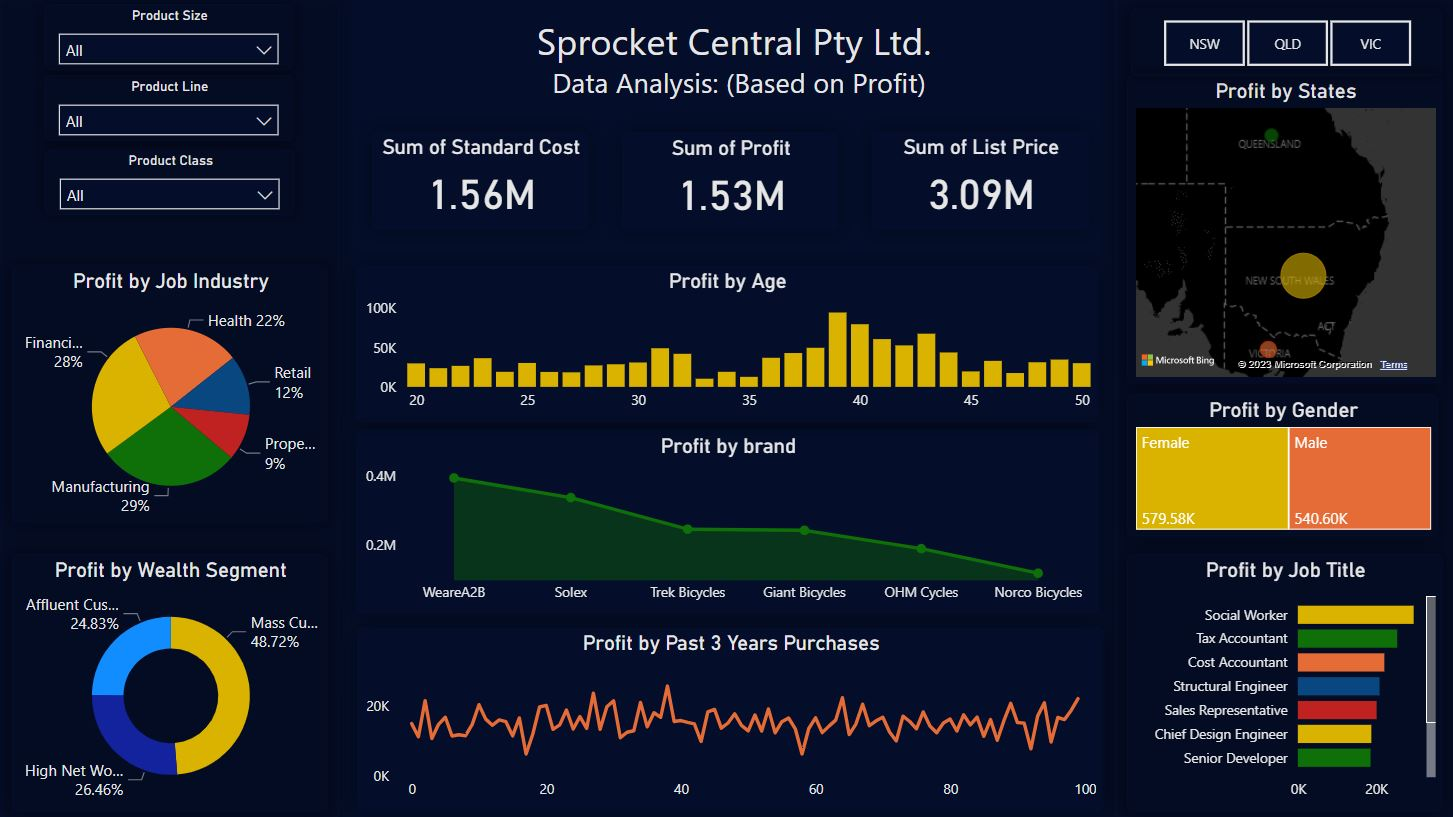

The dashboard page shown, as its layout file describes it:
{"tool":"powerbi","page":{"name":"Page 1","canvas":[1280,720],"ordinal":0},"visuals":[{"type":"shape","box":[980,0,300,720],"z":0},{"type":"shape","box":[0,0,300,720],"z":1000},{"type":"donutChart","title":" Profit by Job Industry","fields":{"Y":["Sum(CustomerDemographicNew.Profit)"],"Category":["CustomerDemographicNew.job_industry_category"]},"box":[12,234,277,226],"z":2000},{"type":"map","title":"Profit by States","fields":{"Category":["CustomerDemographicNew.state"],"Size":["CountNonNull(CustomerDemographicNew.state)"]},"box":[991,68,277,271],"z":3000},{"type":"slicer","fields":{"Values":["CustomerDemographicNew.state"]},"box":[995,10,273,58],"z":4000},{"type":"slicer","title":"Product Class","fields":{"Values":["CustomerDemographicNew.product_class"]},"box":[41,133,219,58],"z":5000},{"type":"slicer","title":"Product Size","fields":{"Values":["CustomerDemographicNew.product_size"]},"box":[40,5,219,58],"z":6000},{"type":"slicer","title":"Product Line","fields":{"Values":["CustomerDemographicNew.product_line"]},"box":[40,68,219,58],"z":7000},{"type":"donutChart","title":"Profit by Wealth Segment","fields":{"Y":["Sum(CustomerDemographicNew.Profit)"],"Category":["CustomerDemographicNew.wealth_segment"]},"box":[12,488,277,226],"z":9000},{"type":"textbox","box":[460,10,381,101],"z":10000},{"type":"treemap","title":"Profit by Gender","fields":{"Values":["Sum(CustomerDemographicNew.Profit)"],"Group":["CustomerDemographicNew.gender"]},"box":[991,348,273,125],"z":13000},{"type":"lineChart","title":"Profit by Past 3 Years Purchases","fields":{"Category":["CustomerDemographicNew.past_3_years_bike_related_purchases"],"Y":["Sum(CustomerDemographicNew.Profit)"]},"box":[315,552,655,162],"z":14000},{"type":"areaChart","title":"Profit by brand","fields":{"Y":["Sum(CustomerDemographicNew.Profit)"],"Category":["CustomerDemographicNew.brand"]},"box":[314,379,652,162],"z":15000},{"type":"columnChart","title":"Profit by Age","fields":{"Y":["Sum(CustomerDemographicNew.Profit)"],"Category":["CustomerDemographicNew.Age"]},"box":[314,234,651,138],"z":15001},{"type":"barChart","title":"Profit by Job Title","fields":{"Y":["Sum(CustomerDemographicNew.Profit)"],"Category":["CustomerDemographicNew.job_title"]},"box":[991,488,277,226],"z":15002},{"type":"card","title":"Sum of Standard Cost","fields":{"Values":["Sum(CustomerDemographicNew.standard_cost)"]},"box":[328,117,190,87],"z":15003},{"type":"card","title":"Sum of Profit","fields":{"Values":["Sum(CustomerDemographicNew.Profit)"]},"box":[548,118,190,87],"z":15004},{"type":"card","title":"Sum of List Price","fields":{"Values":["Sum(CustomerDemographicNew.list_price)"]},"box":[767,117,190,87],"z":15005}]}

Visuals, with their boxes in screenshot pixels (x1, y1, x2, y2), scaled from the page's 1280x720 canvas onto the 1453x817 screenshot:
shape: select_region(1112, 0, 1452, 816)
shape: select_region(0, 0, 341, 816)
" Profit by Job Industry" donutChart: select_region(14, 266, 328, 522)
"Profit by States" map: select_region(1125, 77, 1439, 385)
slicer - CustomerDemographicNew.state: select_region(1129, 11, 1439, 77)
"Product Class" slicer: select_region(47, 151, 295, 217)
"Product Size" slicer: select_region(45, 6, 294, 71)
"Product Line" slicer: select_region(45, 77, 294, 143)
"Profit by Wealth Segment" donutChart: select_region(14, 554, 328, 810)
textbox: select_region(522, 11, 955, 126)
"Profit by Gender" treemap: select_region(1125, 395, 1435, 537)
"Profit by Past 3 Years Purchases" lineChart: select_region(358, 626, 1101, 810)
"Profit by brand" areaChart: select_region(356, 430, 1097, 614)
"Profit by Age" columnChart: select_region(356, 266, 1095, 422)
"Profit by Job Title" barChart: select_region(1125, 554, 1439, 810)
"Sum of Standard Cost" card: select_region(372, 133, 588, 231)
"Sum of Profit" card: select_region(622, 134, 838, 233)
"Sum of List Price" card: select_region(871, 133, 1086, 231)
